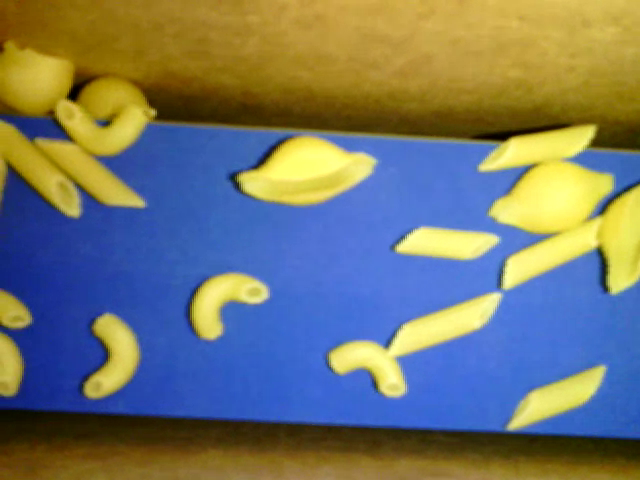elbow: (187, 268, 271, 342), (55, 96, 145, 157), (80, 308, 141, 398), (326, 334, 406, 396), (1, 330, 24, 399), (1, 283, 37, 326)
penne: (1, 120, 85, 225), (34, 138, 151, 211), (384, 289, 501, 356), (499, 214, 607, 286), (506, 360, 608, 433), (473, 121, 597, 171), (392, 224, 499, 262)
shell: (230, 131, 377, 211), (483, 159, 612, 237), (1, 34, 75, 120), (600, 179, 639, 294), (73, 75, 156, 121)
